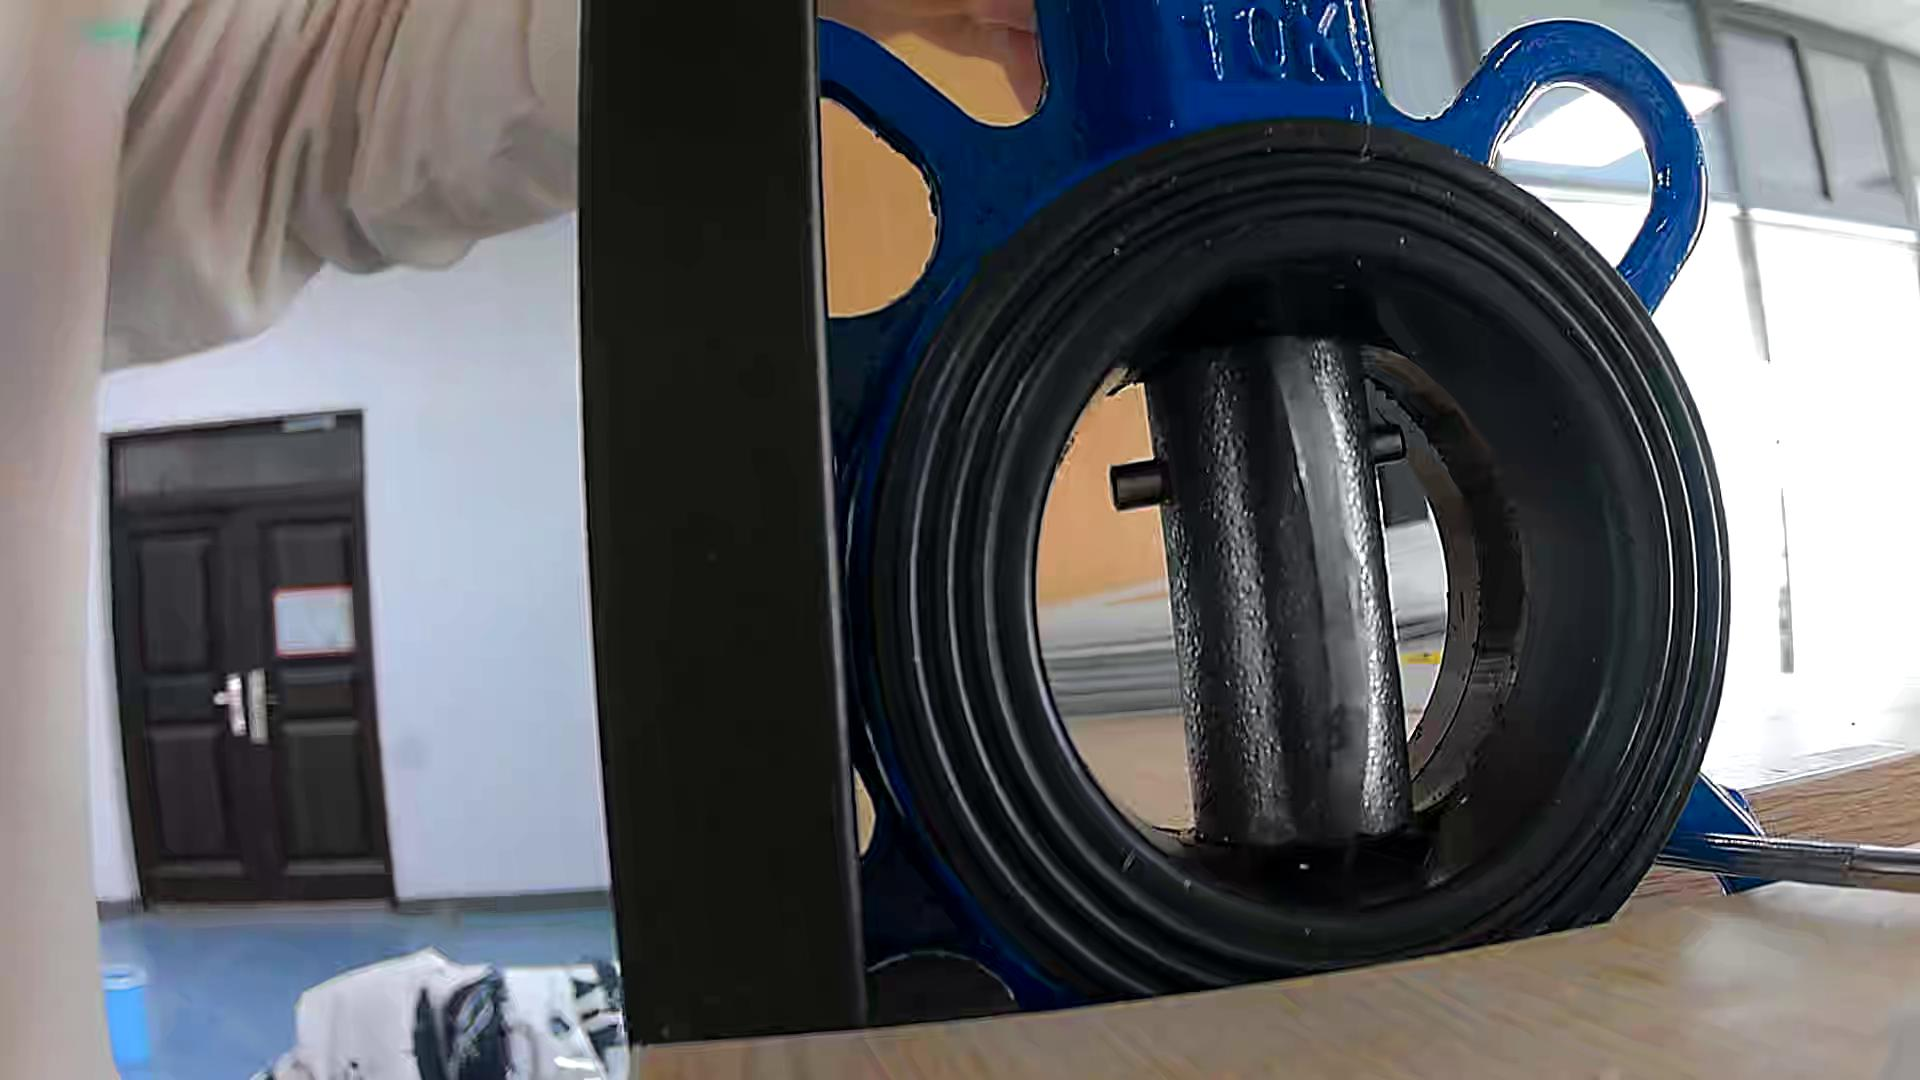empty: (1039, 360, 1449, 846)
valve: (1110, 334, 1412, 848)
